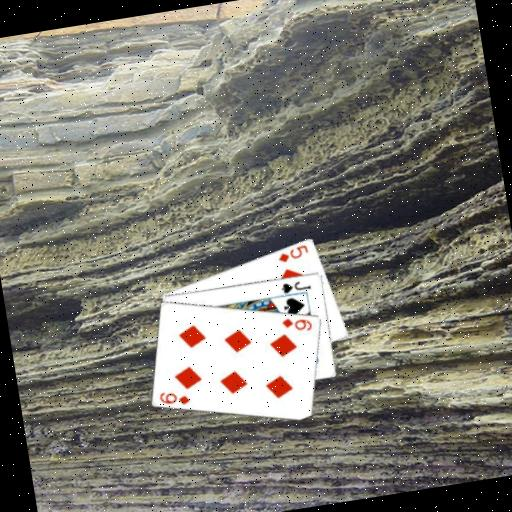5D: (274, 241, 311, 265)
6D: (278, 311, 314, 336), (156, 385, 192, 409)
JS: (278, 276, 313, 295)
